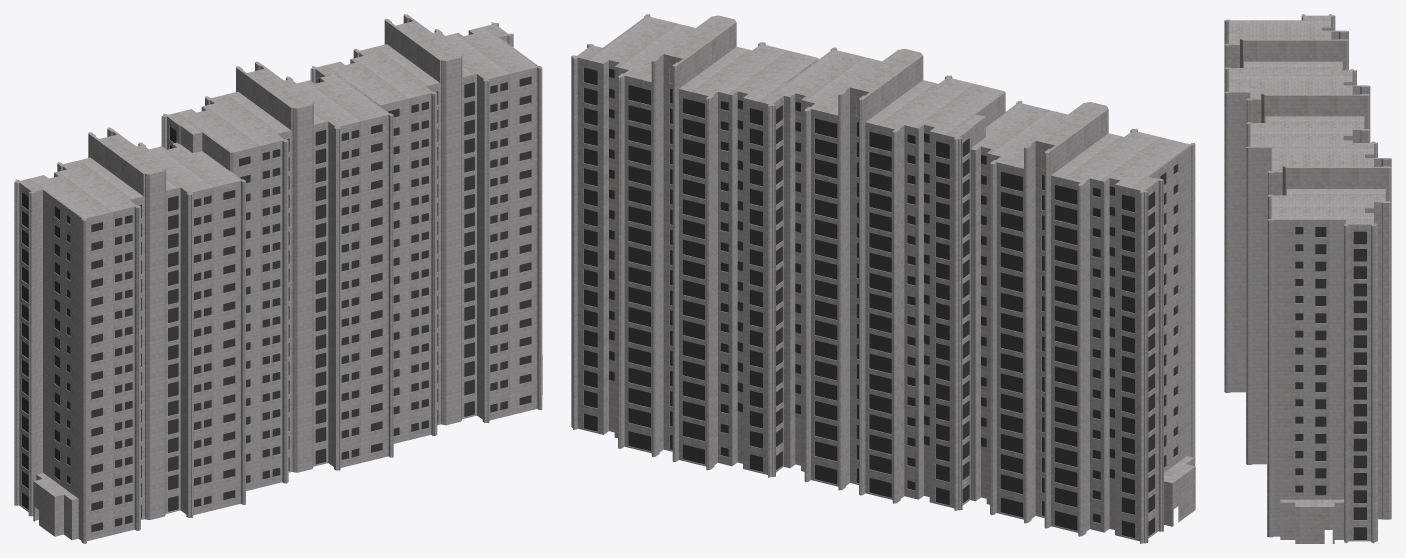
The model's file is builder_11.FBX.
3 views of the same model, side by side, from view 1: azimuth 30°, elevation 25°; view 2: azimuth 150°, elevation 25°; view 3: azimuth 270°, elevation 25° (orthographic). The views are drawn at different scales.
Visible parts, largest first — view 1: builder_11; view 2: builder_11; view 3: builder_11.
Part boxes in pixels (x1,y1,x2,y2): builder_11: [14, 14, 542, 543]; builder_11: [571, 14, 1195, 543]; builder_11: [1224, 14, 1391, 543].
Size of the model in its own units: 61345 by 41754 by 18747.
